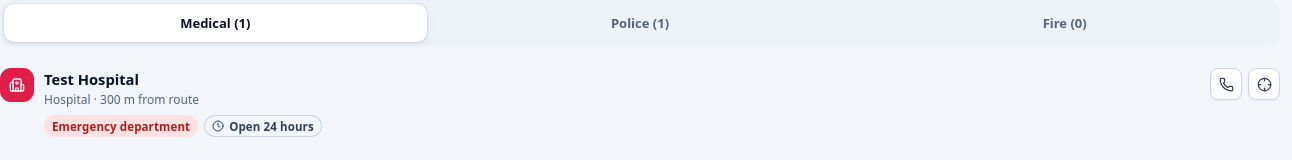
it: EmergencyList › says nothing was found instead of implying safety, and points to 112
Click the button "Fire (0)" at (1065, 23), box [853,4,1276,42]
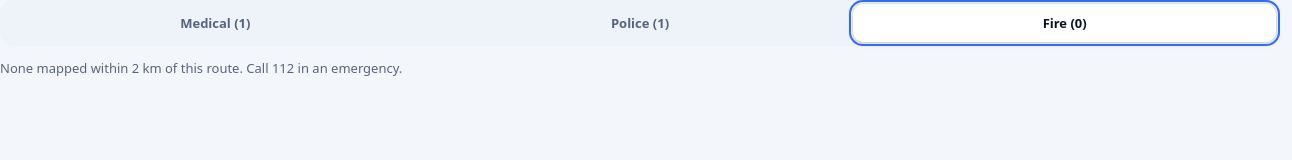
Result: the text "None mapped within 2 km" is shown at [0,59,402,77]
Result: the text "112" is shown at [139,59,402,77]
